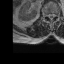CCS_normal: (49, 11, 52, 22)
LFS_normal: (55, 11, 58, 19)
LLS_normal: (52, 11, 55, 20)
RFS_normal: (44, 10, 47, 19)
RLS_normal: (47, 11, 49, 20)
